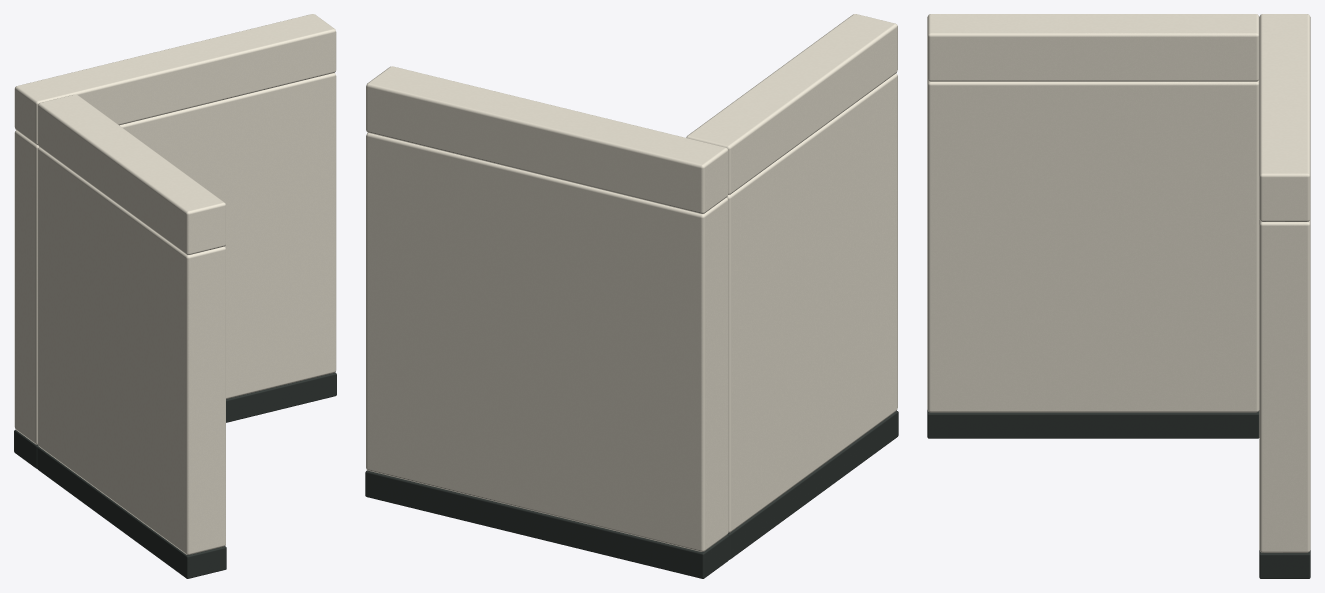
File: wall-corner.glb
3 views of the same model, side by side, from view 1: azimuth 30°, elevation 25°; view 2: azimuth 150°, elevation 25°; view 3: azimuth 270°, elevation 25° (orthographic). The views are drawn at different scales.
Parts seen in each view (by area): view 1: wall_body (×2), wall_band (×2), wall_plinth (×2); view 2: wall_body (×2), wall_band (×2), wall_plinth (×2); view 3: wall_body (×2), wall_band (×2), wall_plinth (×2).
Boxes of the visible parts, x1,y1,x2,y2 form: wall_body (×2): (14,73,336,554); wall_band (×2): (14,14,336,254); wall_plinth (×2): (14,372,336,578); wall_body (×2): (366,73,897,551); wall_band (×2): (366,14,897,213); wall_plinth (×2): (365,411,898,578); wall_body (×2): (927,79,1310,552); wall_band (×2): (927,14,1310,221); wall_plinth (×2): (927,410,1310,578).
Size of the model in its own units: 3 by 3.5 by 3.
Materials: 2 (2 with a texture image).
